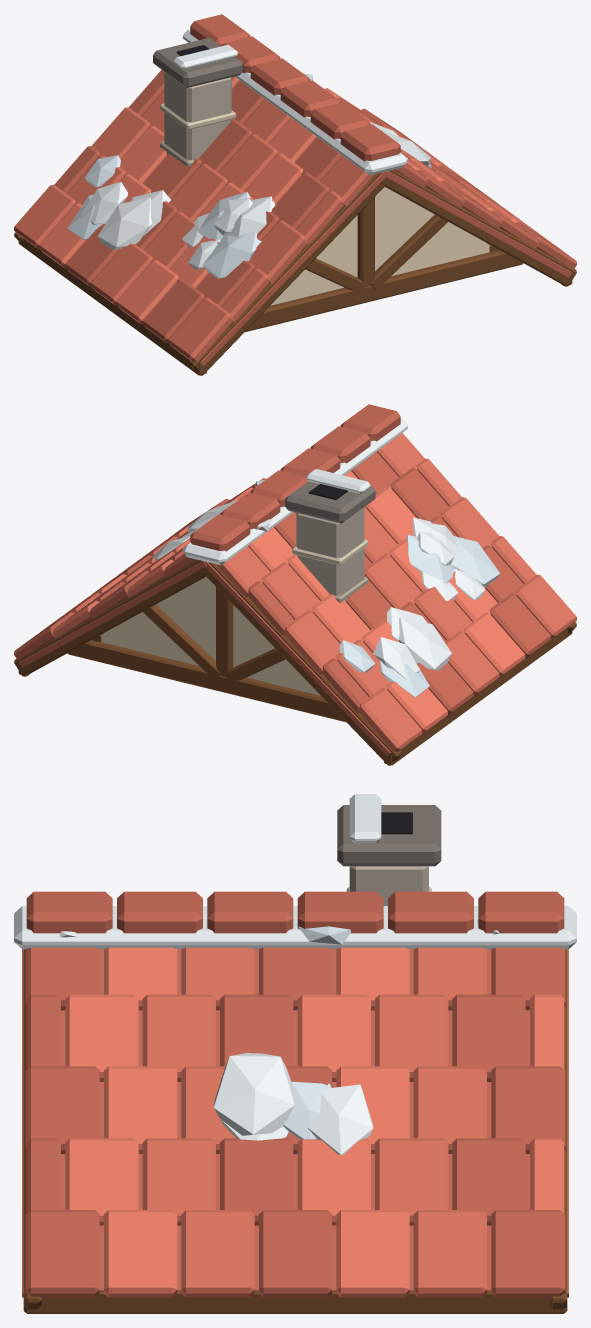
File: mod_roof_treehouse.glb
3 renders of one model, top to bottom at view 1: azimuth 30°, elevation 25°; view 2: azimuth 150°, elevation 25°; view 3: azimuth 270°, elevation 25°, orthographic. The views are drawn at different scales.
Visible parts, largest first — view 1: mod_roof_treehouse; view 2: mod_roof_treehouse; view 3: mod_roof_treehouse.
Part boxes in pixels (x1,y1,x2,y2): mod_roof_treehouse: (14, 14, 576, 375); mod_roof_treehouse: (14, 404, 576, 765); mod_roof_treehouse: (14, 794, 576, 1313).
Size of the model in its own units: 3.22 by 1.68 by 2.7.
